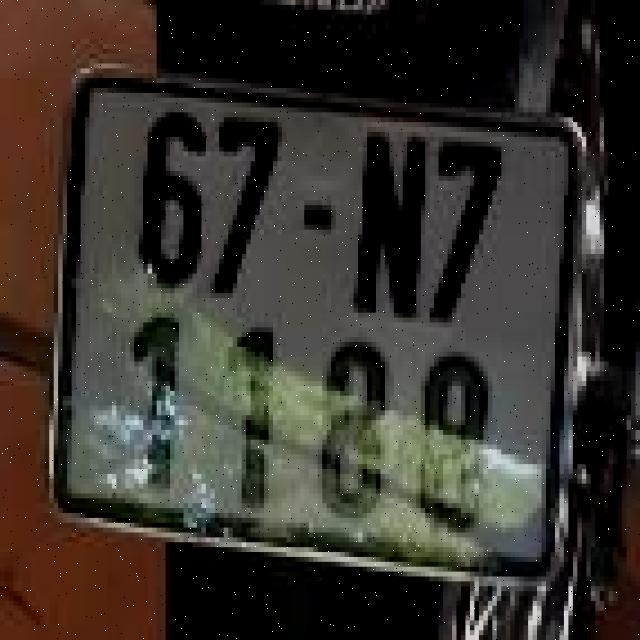1: (114, 308, 199, 503), (208, 310, 284, 525)
6: (132, 102, 208, 308)
7: (430, 130, 510, 334), (213, 107, 284, 303)
8: (304, 328, 398, 538), (405, 347, 490, 552)
N: (349, 117, 430, 337)
